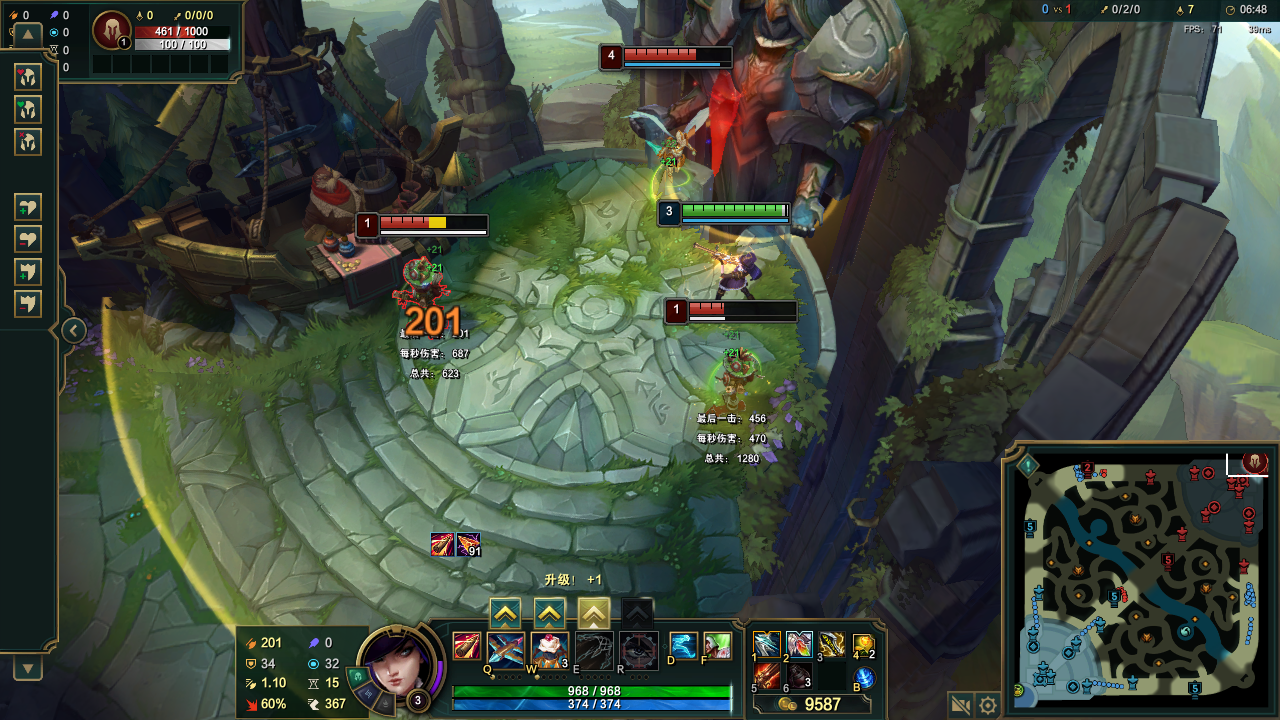DFYX: (378, 210, 494, 230), (623, 41, 737, 61), (688, 300, 809, 316)
